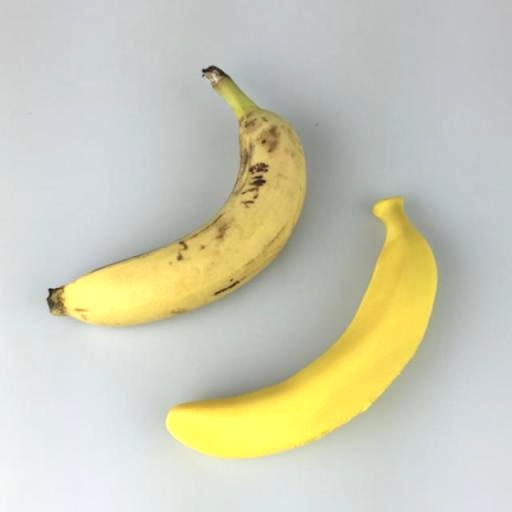fruit: (196, 91, 412, 318), (364, 158, 476, 512)
